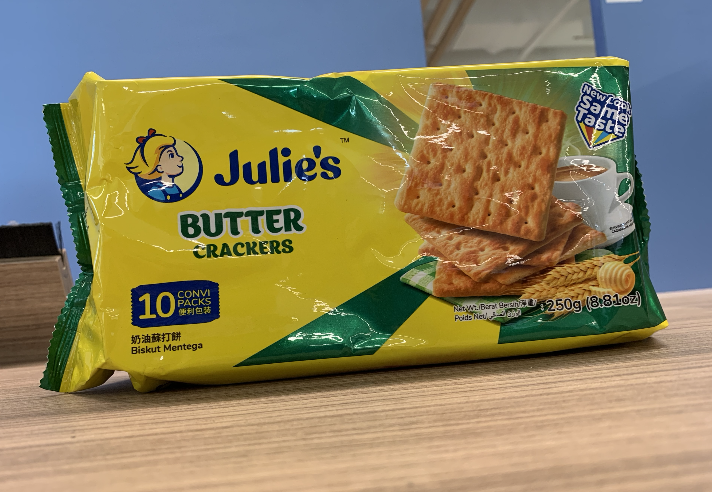crackers_150g: (114, 93, 639, 326)
